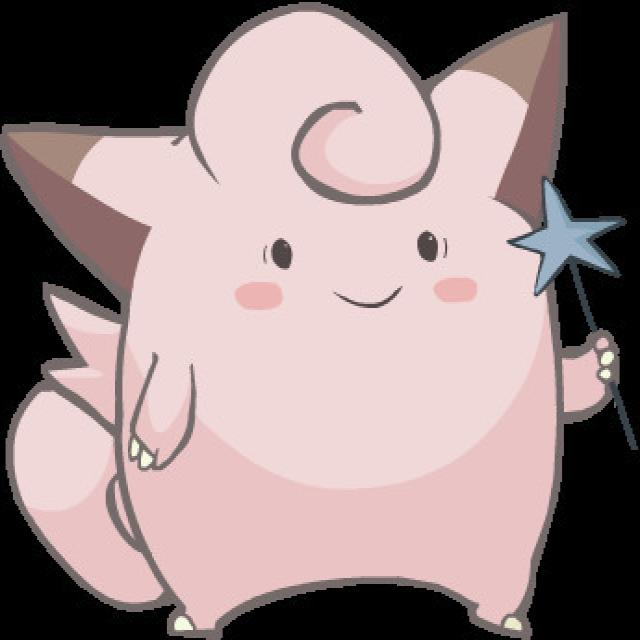Clefairy: (0, 0, 622, 640)
